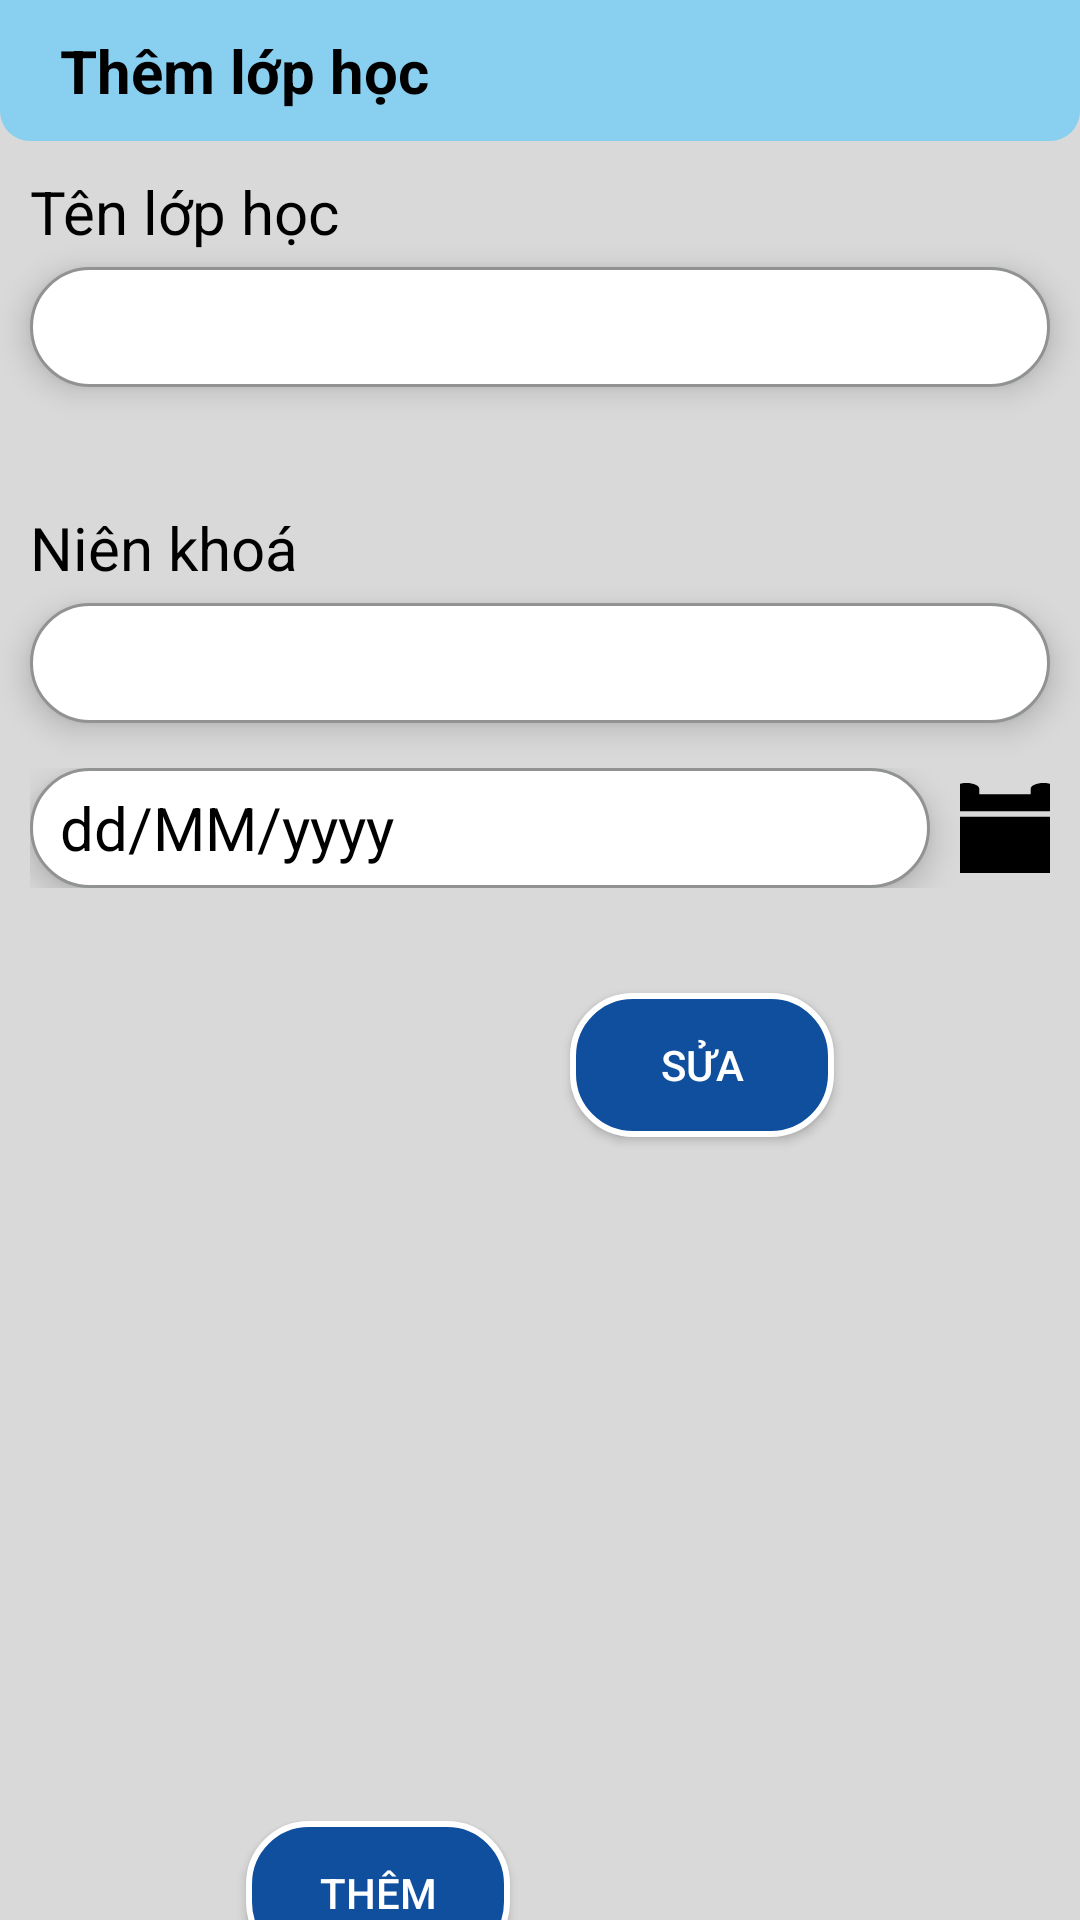

Icon click points for this 1080×1920 phone screenshot, format (x,y):
calendar: (1005,828)
